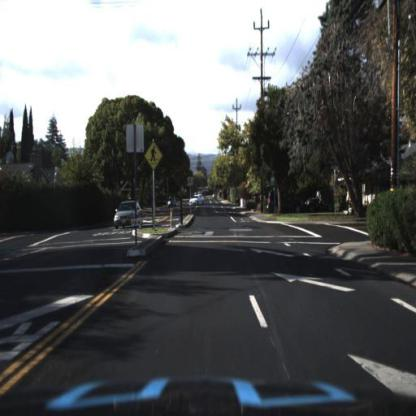car: (266, 186, 303, 217), (112, 200, 146, 233), (307, 190, 338, 213), (188, 192, 206, 208), (235, 194, 245, 210)
